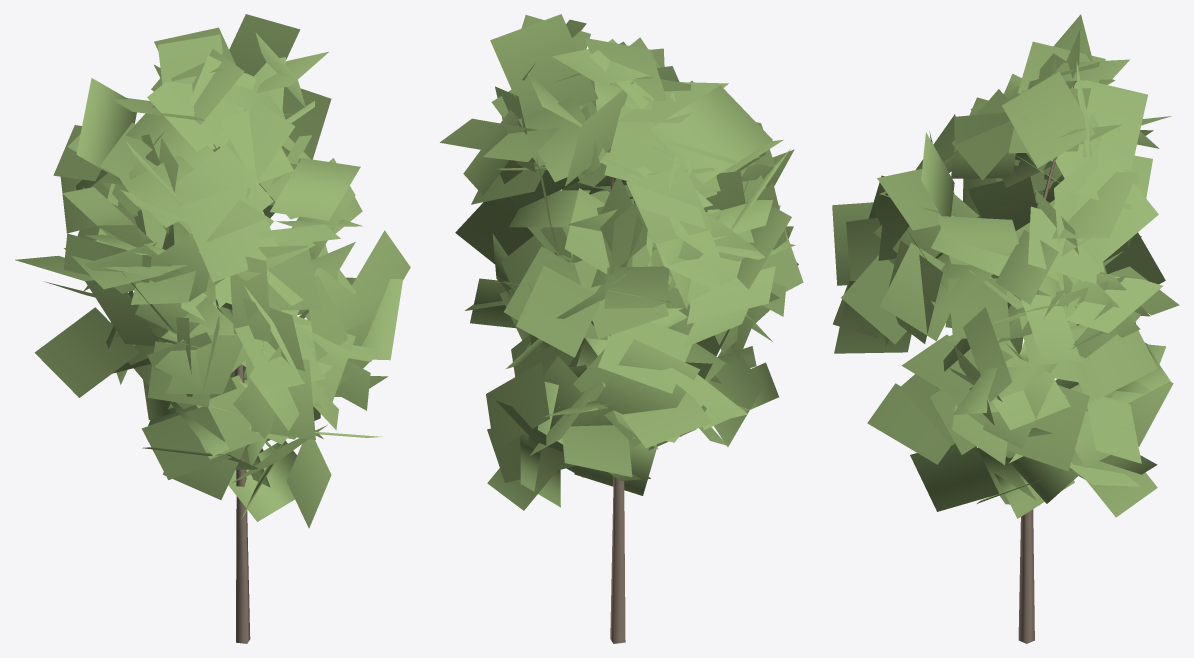
Rendered from Pine_11_young_lod2.glb.
The picture shows the model from 3 angles, left to right: view 1: azimuth 30°, elevation 25°; view 2: azimuth 150°, elevation 25°; view 3: azimuth 270°, elevation 25°; orthographic projection. The views are drawn at different scales.
Visible parts, largest first — view 1: Pine_11_young_lod2; view 2: Pine_11_young_lod2; view 3: Pine_11_young_lod2.
Boxes of the visible parts, bbox=[...] form: Pine_11_young_lod2: bbox=[15, 14, 410, 643]; Pine_11_young_lod2: bbox=[440, 14, 803, 643]; Pine_11_young_lod2: bbox=[832, 14, 1179, 643].
Bounding box in the file's own units: 6.14 × 10.2 × 5.4.
